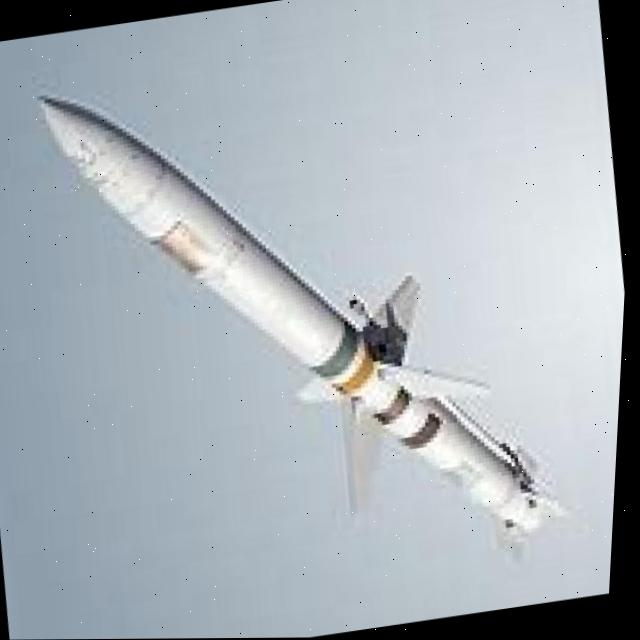missile: (11, 24, 584, 616)
